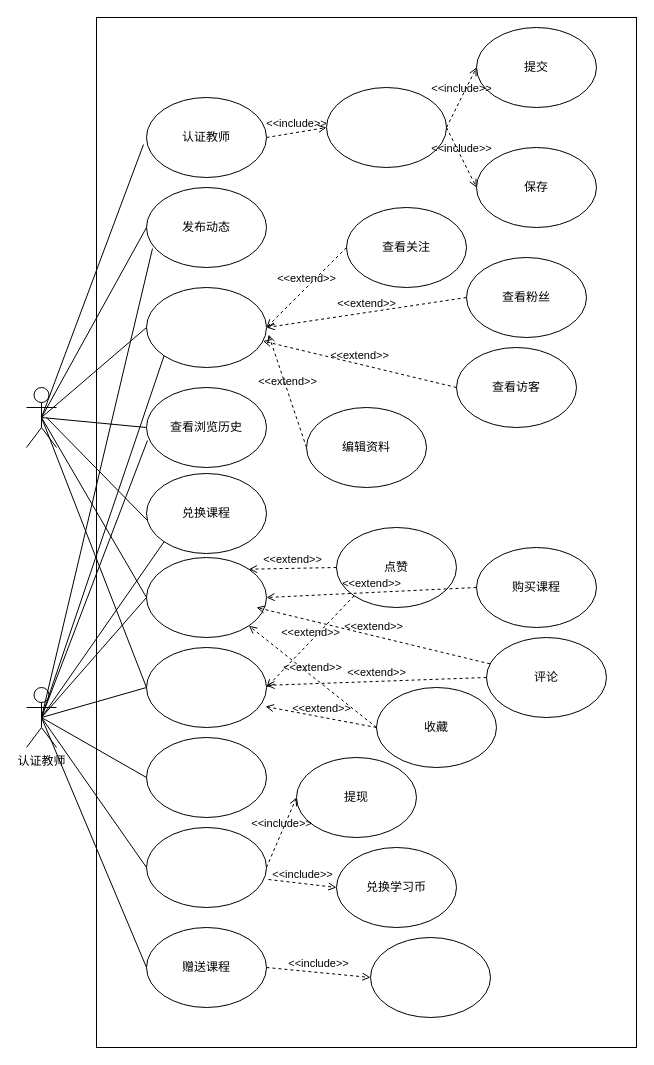
Some shapes in this 654 by 1065 pixel diagram are drawn without their labels. The centre of each missing label's shape, as x and y in pixels:
"发布课程" goes at (x=206, y=777).
"填写信息" goes at (x=386, y=127).
"查看主页" goes at (x=206, y=327).
"查看收益" goes at (x=206, y=867).
"浏览动态" goes at (x=206, y=687).
"浏览课程" goes at (x=206, y=597).
"生成兑换码" goes at (x=430, y=977).
"用户" goes at (x=41, y=417).
